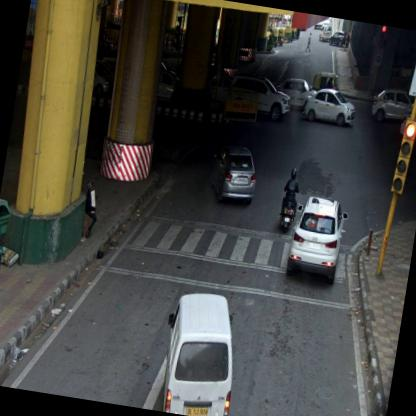car: (153, 285, 251, 415), (285, 194, 351, 286), (205, 138, 263, 208), (224, 74, 295, 124), (302, 83, 360, 130), (369, 82, 414, 127), (274, 76, 320, 113), (328, 29, 349, 48), (319, 24, 333, 44)
motorcycle: (275, 165, 305, 237)
